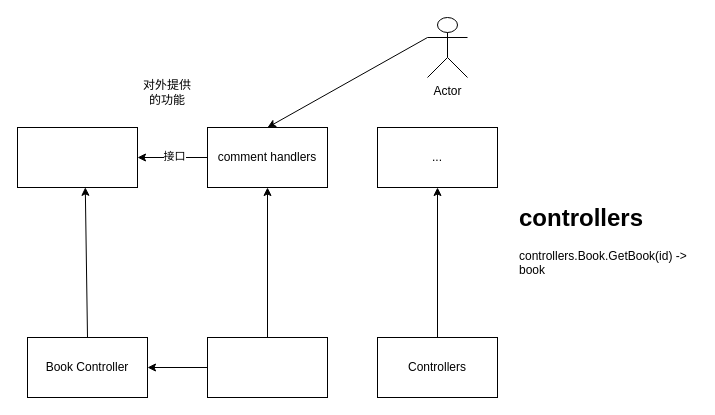
This 715x415 diagram has some shape labels left out. The shapes that lost their labels are listed below. From the top down, each one's box as (x1, y1, x2, y2) in pixels, then its label:
(16, 126, 138, 188): book handlers
(206, 336, 328, 398): Comment Controller
